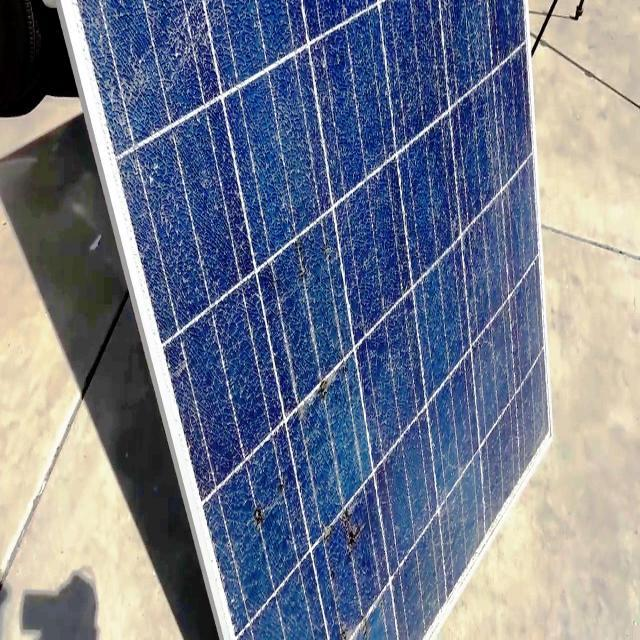faulty: (74, 0, 551, 637)
